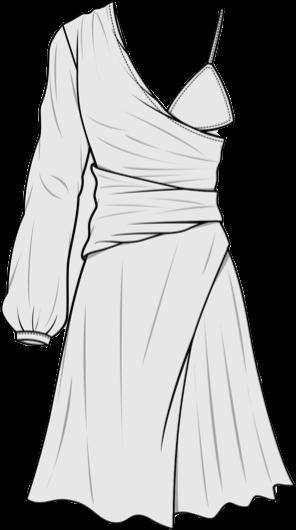Bodice: (59, 2, 234, 256)
Hemline: (25, 247, 233, 529), (24, 481, 295, 529)
Neckline: (112, 2, 223, 115), (92, 162, 216, 193)
Skirt: (28, 223, 294, 528)
Sleeve: (2, 30, 88, 347)
Sleeveline: (58, 27, 81, 119)
Waistline: (82, 217, 223, 258)
